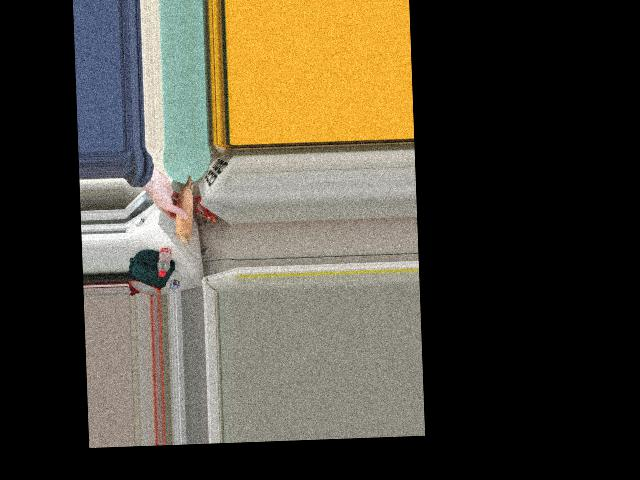sweet_potato: (171, 179, 192, 247)
